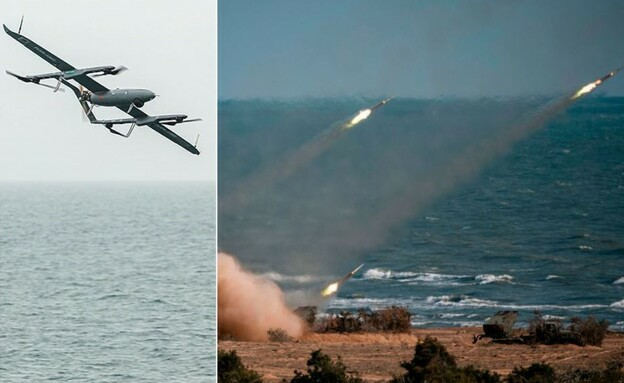maybay_khongnguoilai: (3, 30, 203, 157)
